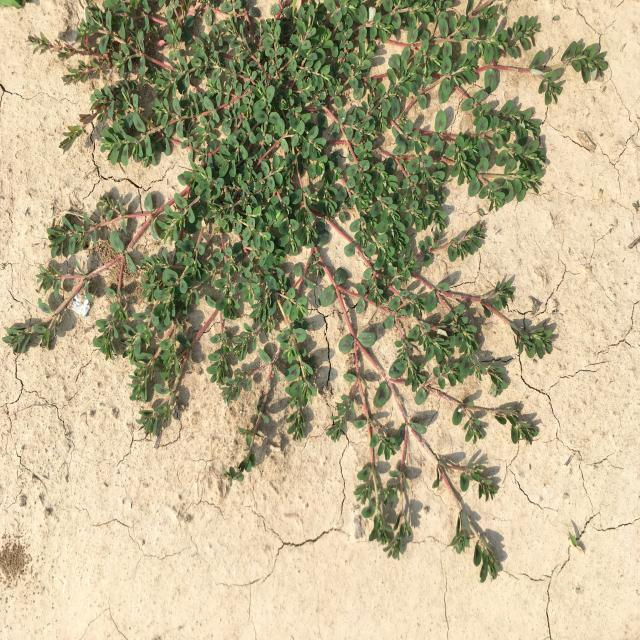SpottedSpurge: (2, 0, 609, 582)
